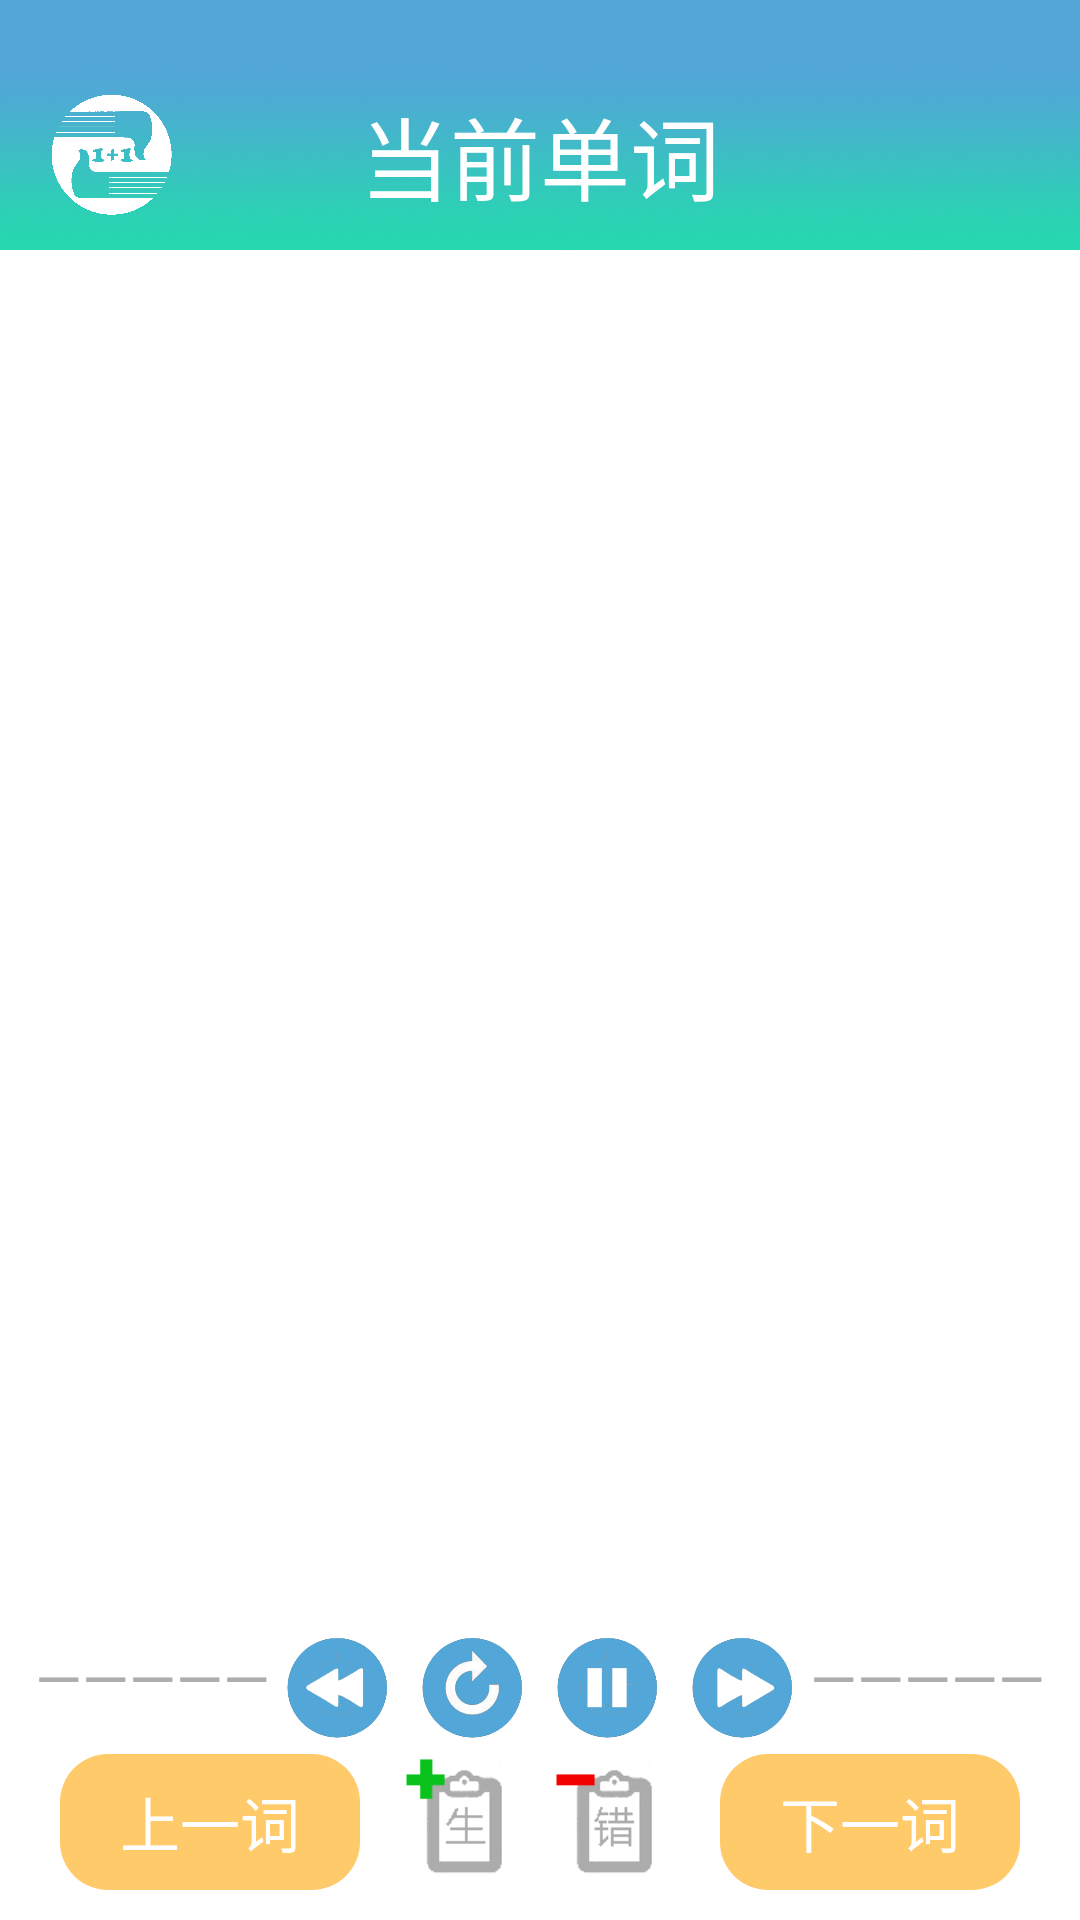

Icons on this 1080x1920 Android screen, each with the point to tap as [x,y]:
add collection: [454,1816]
again: [472,1688]
delete mistake: [604,1821]
last: [337,1688]
next: [742,1688]
stop: [607,1688]
